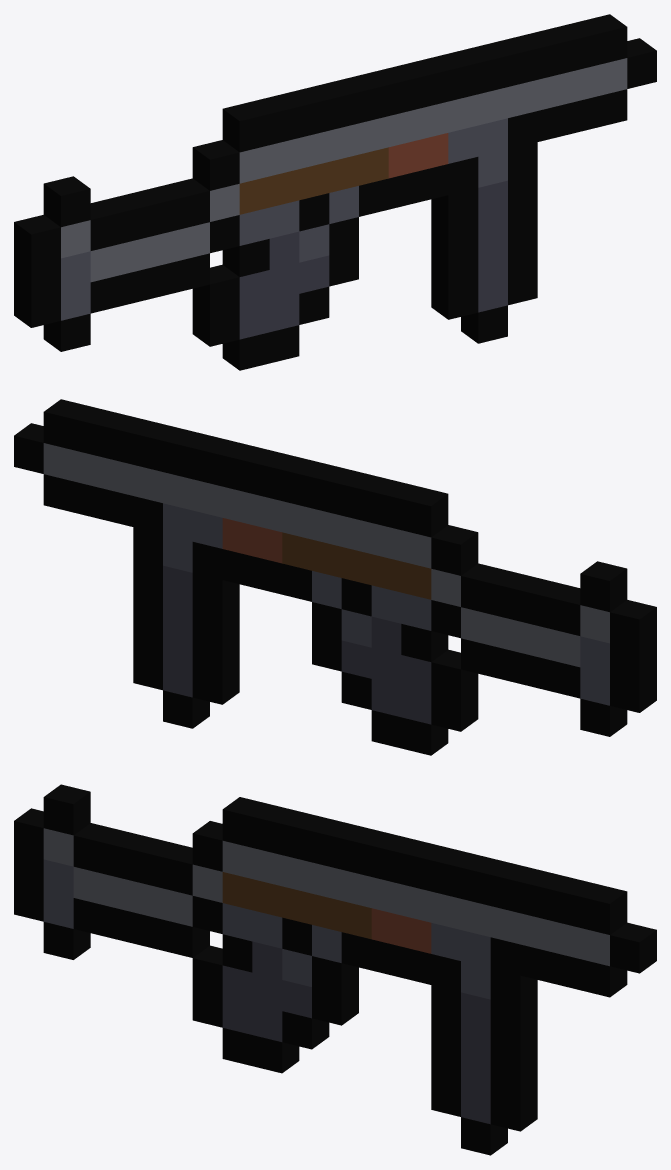
3 renders of one model, top to bottom at view 1: azimuth 30°, elevation 25°; view 2: azimuth 150°, elevation 25°; view 3: azimuth 330°, elevation 25°, orthographic.
Visible parts, largest first — view 1: generated(Clone); view 2: generated(Clone); view 3: generated(Clone).
Part boxes in pixels (box(x1,y1,x2,y2)): generated(Clone): box(14, 14, 656, 370); generated(Clone): box(14, 399, 656, 755); generated(Clone): box(14, 784, 656, 1155).
Size of the model in its own units: 21 by 9 by 1.
1 material, 1 textured.
